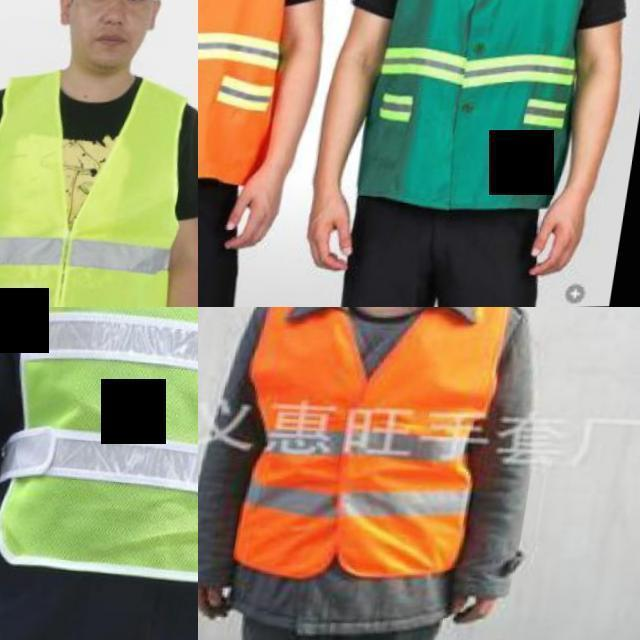vest: (232, 307, 509, 581), (0, 307, 198, 634), (370, 0, 614, 217), (0, 69, 198, 307), (198, 0, 314, 185)
